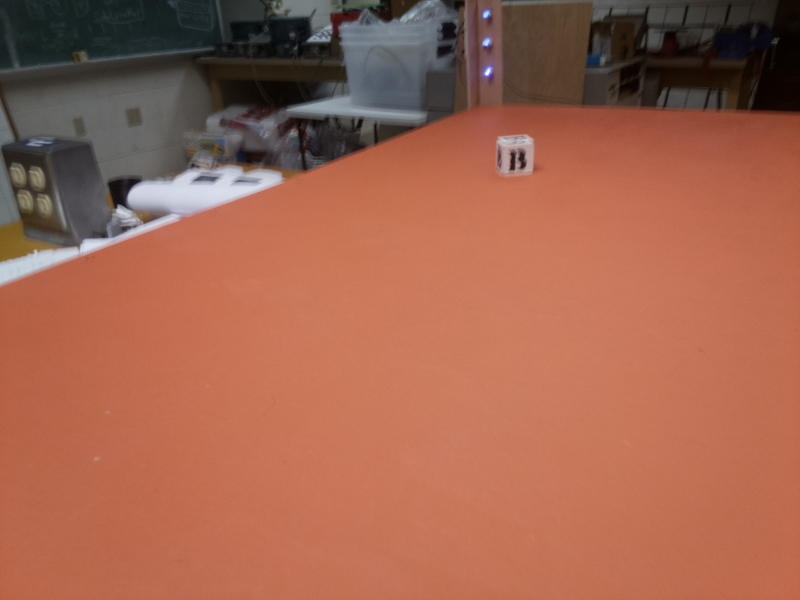blockB: (497, 131, 537, 176)
corner: (463, 1, 508, 109)
